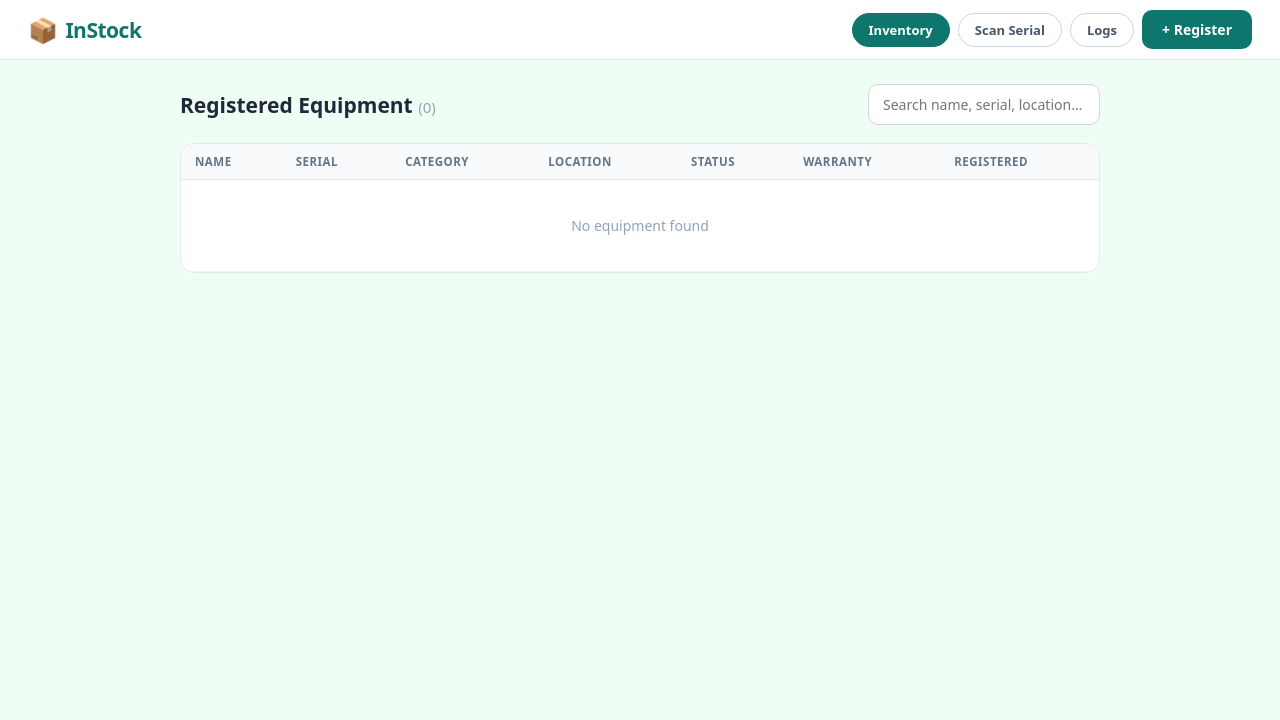
Test: InStock — Sprint 2 Integration Tests › Register Choice Modal › opens the CSV import modal when Import CSV is selected
Click the button "+ Register".
click(1197, 30)  # box x1=1142 y1=10 x2=1252 y2=49
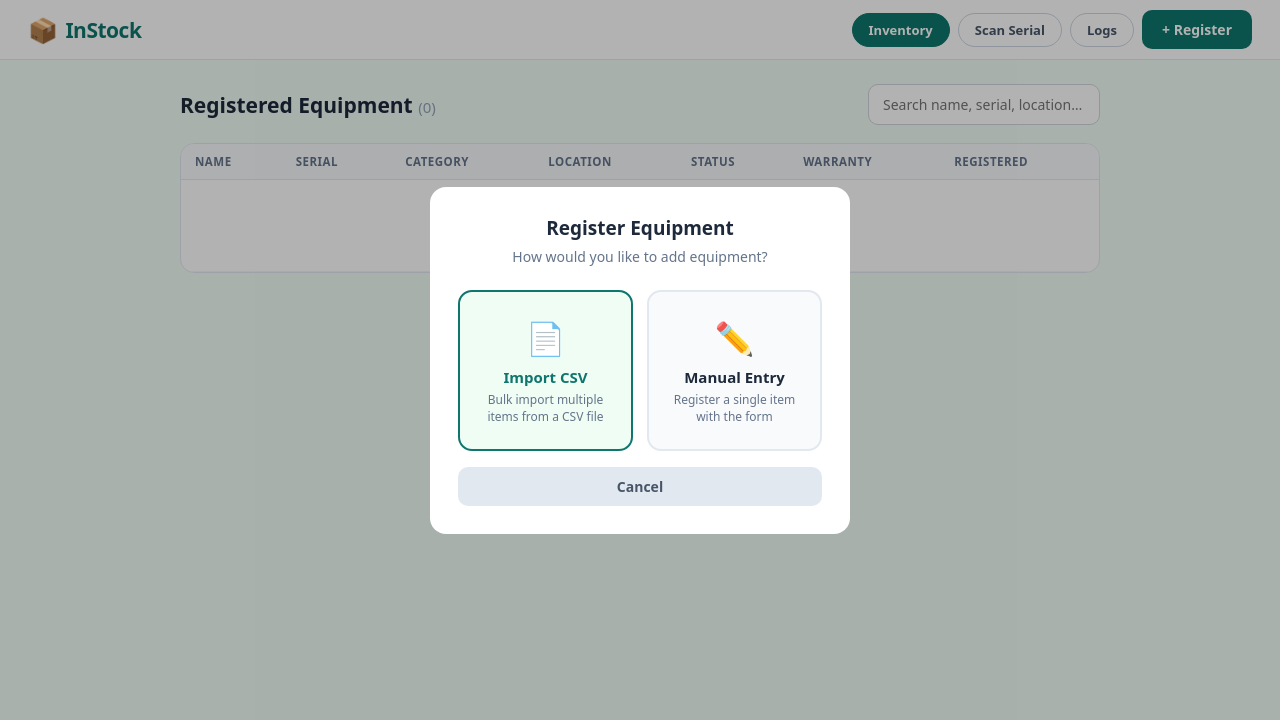
Click the text "Import CSV".
click(545, 376)  # box x1=503 y1=366 x2=588 y2=386
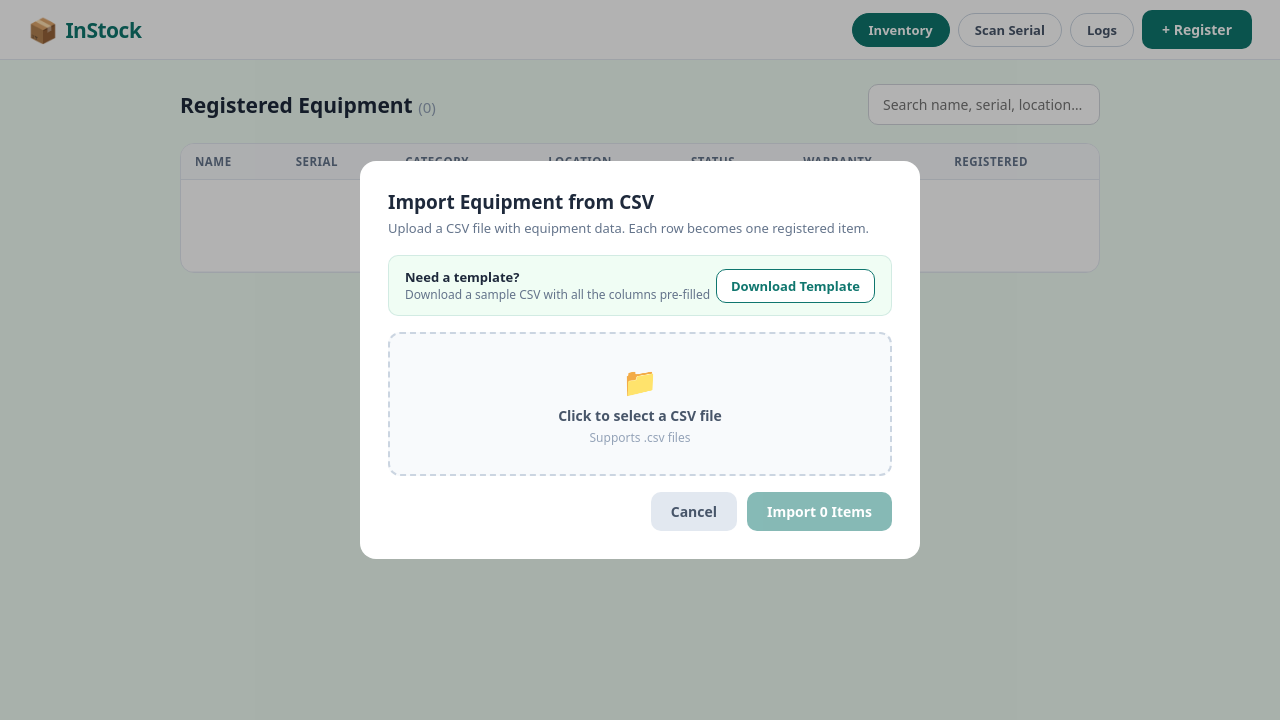
Result: the heading "Import Equipment from CSV" is shown at x1=388 y1=189 x2=654 y2=215
